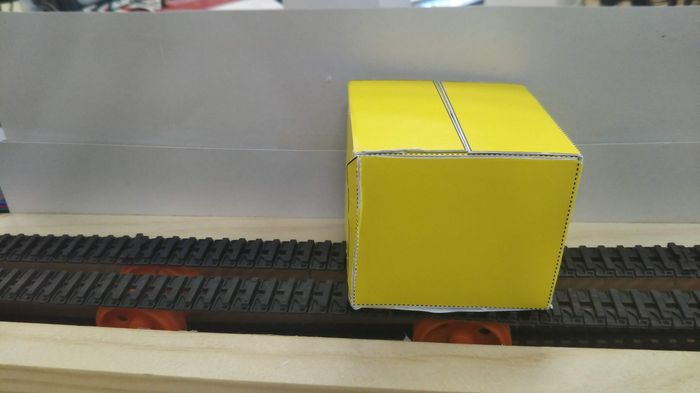box4: (335, 69, 584, 320)
